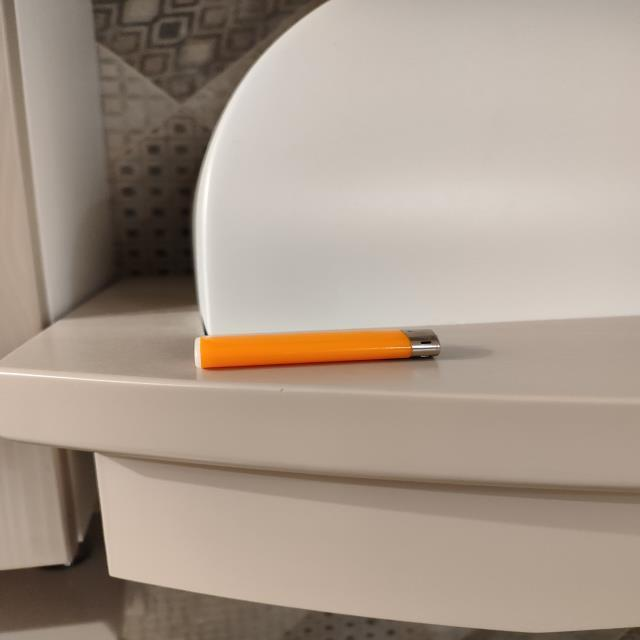lighter: (195, 329, 440, 369)
